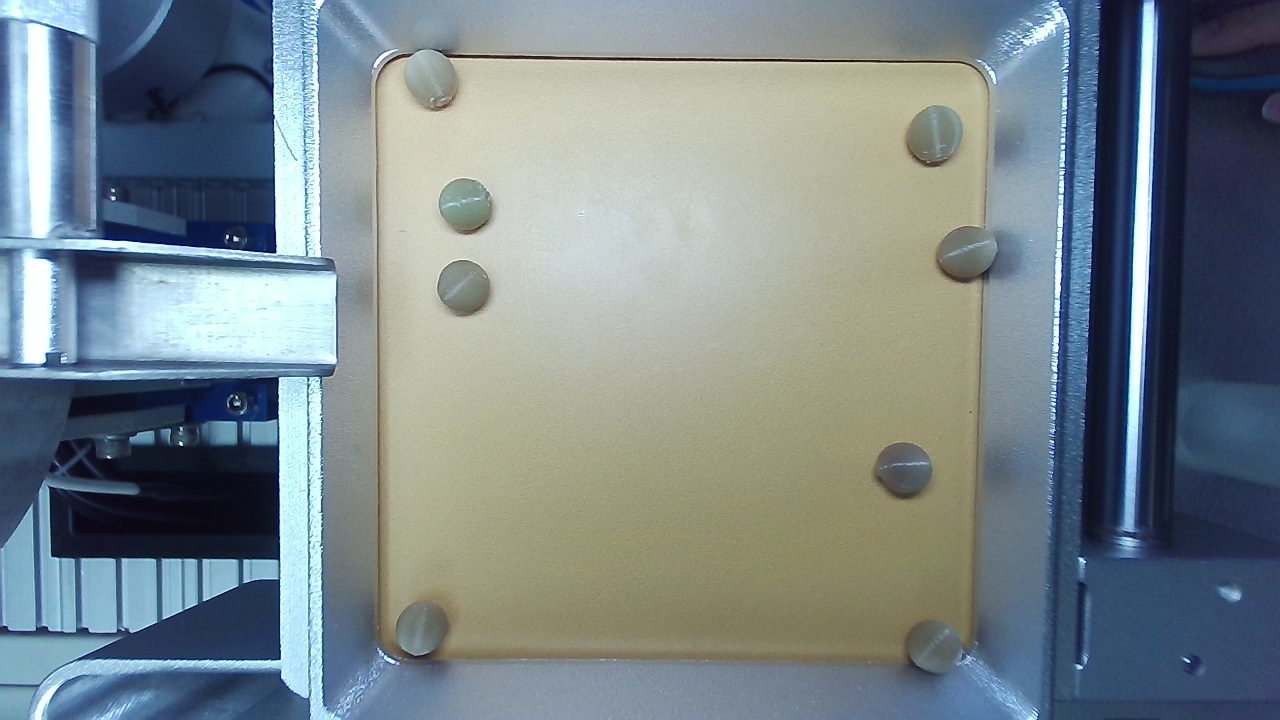XLabel: (626, 290, 663, 326)
YLabel: (403, 285, 439, 320)
none: (562, 358, 720, 524)
withoutcover: (228, 359, 496, 567)
